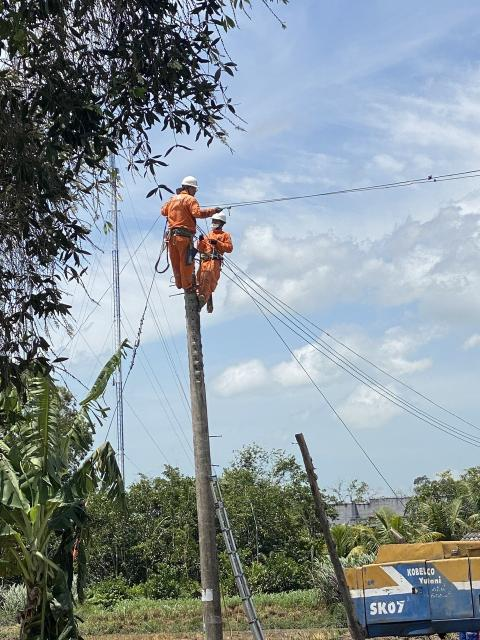gloves: (213, 204, 227, 216), (208, 233, 218, 247), (198, 229, 207, 244)
harness: (163, 225, 197, 242), (193, 248, 229, 264)
helmet: (176, 172, 209, 193), (209, 208, 233, 227)
shoes: (195, 292, 209, 311)
